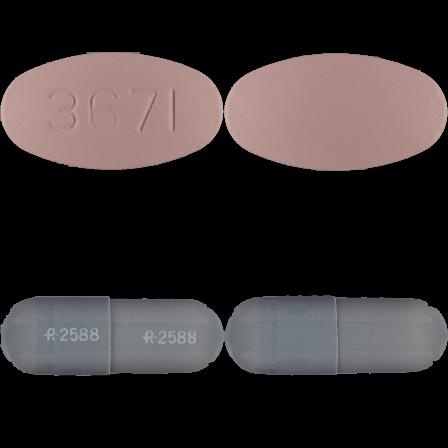50090-0800: (0, 0, 224, 224)
